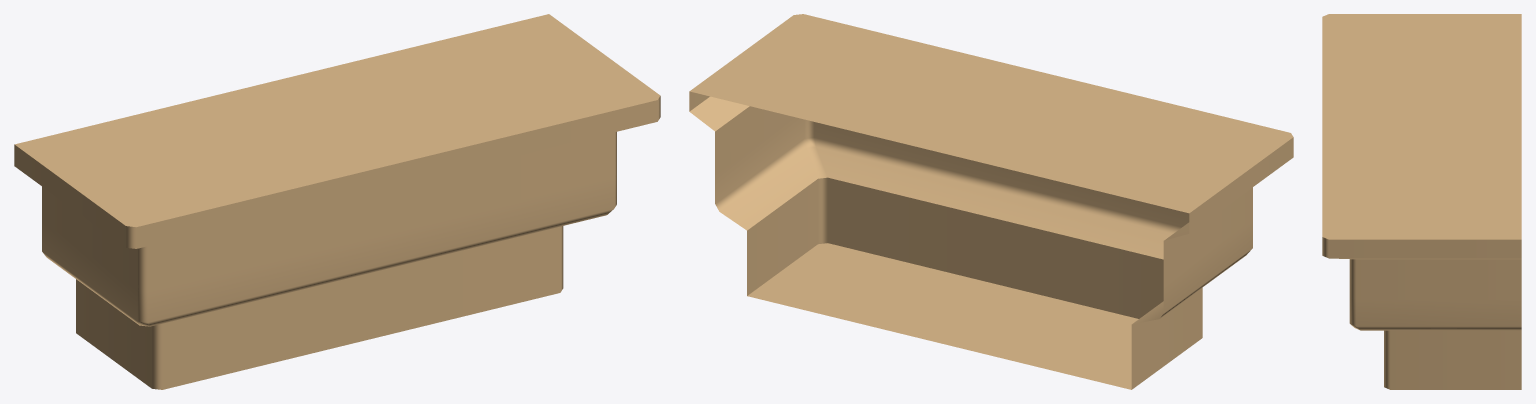
Rendered from DBK_Trim_B_Cap.fbx.
The picture shows the model from 3 angles, left to right: view 1: azimuth 30°, elevation 25°; view 2: azimuth 150°, elevation 25°; view 3: azimuth 270°, elevation 25°; orthographic projection. The views are drawn at different scales.
Parts seen in each view (by area): view 1: DBK_Trim_B_Cap; view 2: DBK_Trim_B_Cap; view 3: DBK_Trim_B_Cap.
Boxes of the visible parts, bbox=[...] form: DBK_Trim_B_Cap: bbox=[14, 14, 660, 389]; DBK_Trim_B_Cap: bbox=[689, 14, 1293, 389]; DBK_Trim_B_Cap: bbox=[1322, 14, 1521, 389].
Size of the model in its own units: 72.56 by 26.44 by 27.11.
